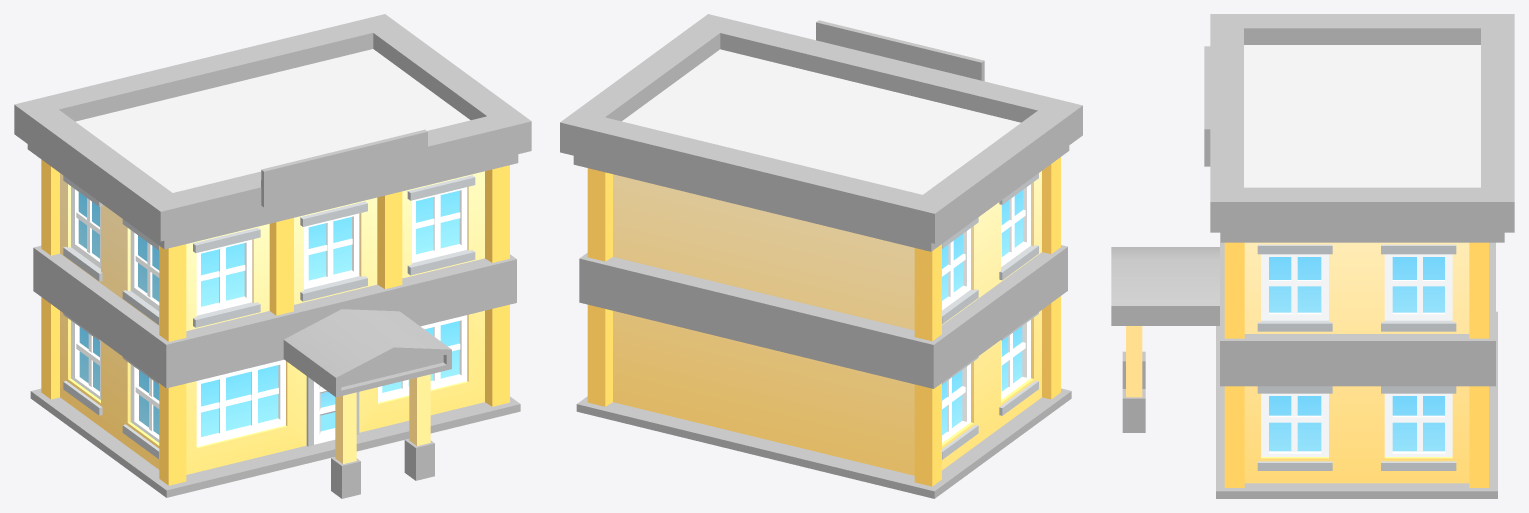
The model's file is city2-building-living-31.glb.
3 renders of one model, left to right at view 1: azimuth 30°, elevation 25°; view 2: azimuth 150°, elevation 25°; view 3: azimuth 270°, elevation 25°, orthographic. The views are drawn at different scales.
Visible parts, largest first — view 1: Building_Living_31; view 2: Building_Living_31; view 3: Building_Living_31.
Boxes of the visible parts, x1,y1,x2,y2 form: Building_Living_31: (14, 14, 531, 498); Building_Living_31: (560, 14, 1082, 498); Building_Living_31: (1111, 14, 1514, 498).
Size of the model in its own units: 10.33 by 8.2 by 9.38.
1 material, 1 textured.
